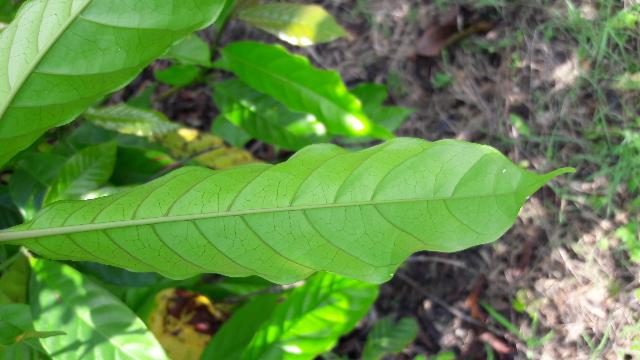healthy: (2, 138, 574, 281)
